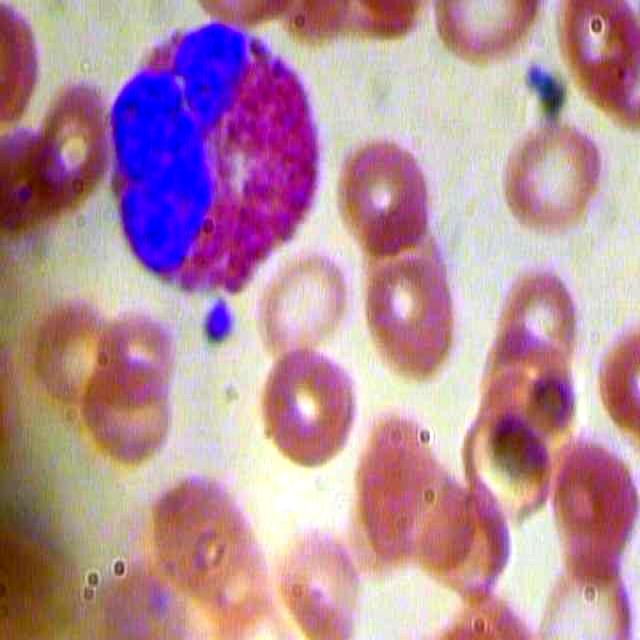Platelets: (192, 294, 238, 346)
RBC: (356, 222, 465, 386), (544, 432, 640, 591), (499, 105, 603, 247), (258, 340, 366, 475), (340, 133, 436, 259), (78, 353, 177, 472), (260, 238, 356, 358), (500, 260, 589, 365)
WBC: (75, 15, 340, 301)
